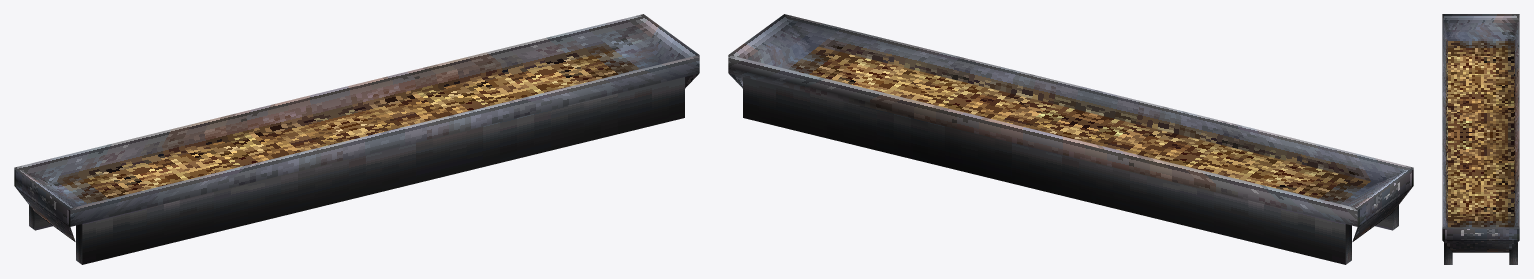
The model's file is Environment - Prop - Feeding Troughs - PMTROUGH.glb.
3 renders of one model, left to right at view 1: azimuth 30°, elevation 25°; view 2: azimuth 150°, elevation 25°; view 3: azimuth 270°, elevation 25°, orthographic. The views are drawn at different scales.
Parts seen in each view (by area): view 1: PMTROUGH; view 2: PMTROUGH; view 3: PMTROUGH.
Boxes of the visible parts, bbox=[...] form: PMTROUGH: bbox=[14, 14, 699, 264]; PMTROUGH: bbox=[728, 14, 1413, 264]; PMTROUGH: bbox=[1442, 14, 1519, 264].
Size of the model in its own units: 32.5 by 3 by 5.
Materials: 1 (1 with a texture image).
